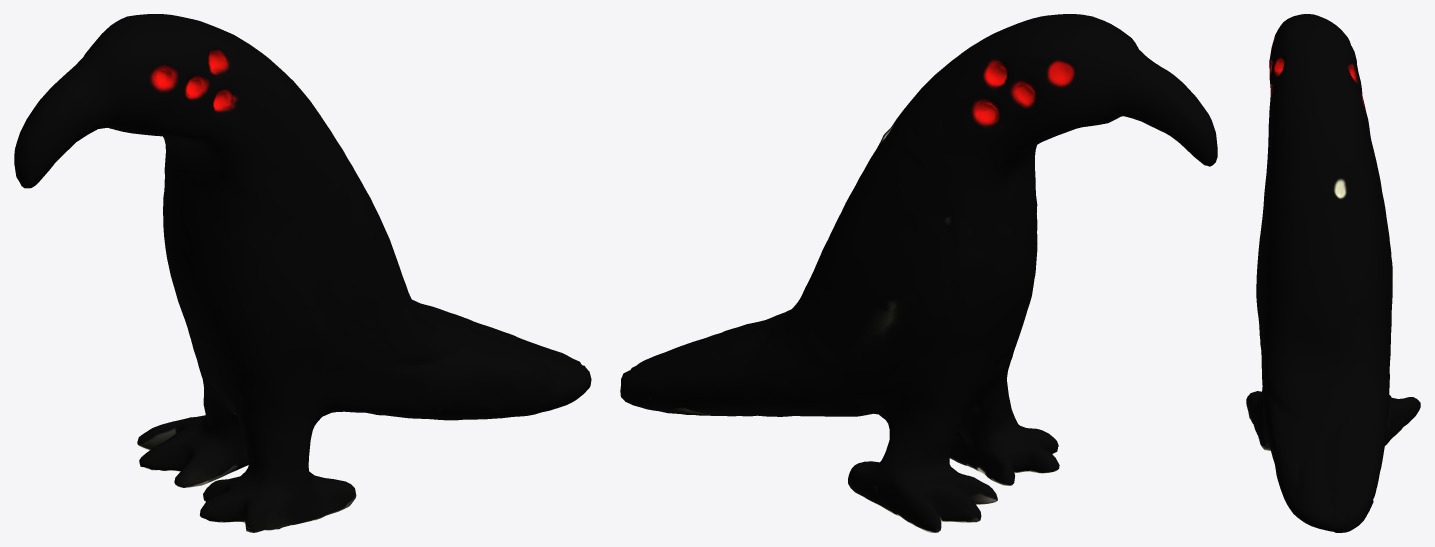
File: bird.glb
3 renders of one model, left to right at view 1: azimuth 30°, elevation 25°; view 2: azimuth 150°, elevation 25°; view 3: azimuth 270°, elevation 25°, orthographic. The views are drawn at different scales.
Visible parts, largest first — view 1: low_poly_bird; view 2: low_poly_bird; view 3: low_poly_bird.
Part boxes in pixels (x1,y1,x2,y2): low_poly_bird: (14,14,591,532); low_poly_bird: (620,14,1217,532); low_poly_bird: (1246,14,1420,532).
Size of the model in its own units: 0.1667 by 0.1361 by 0.0585.
1 material, 1 textured.
